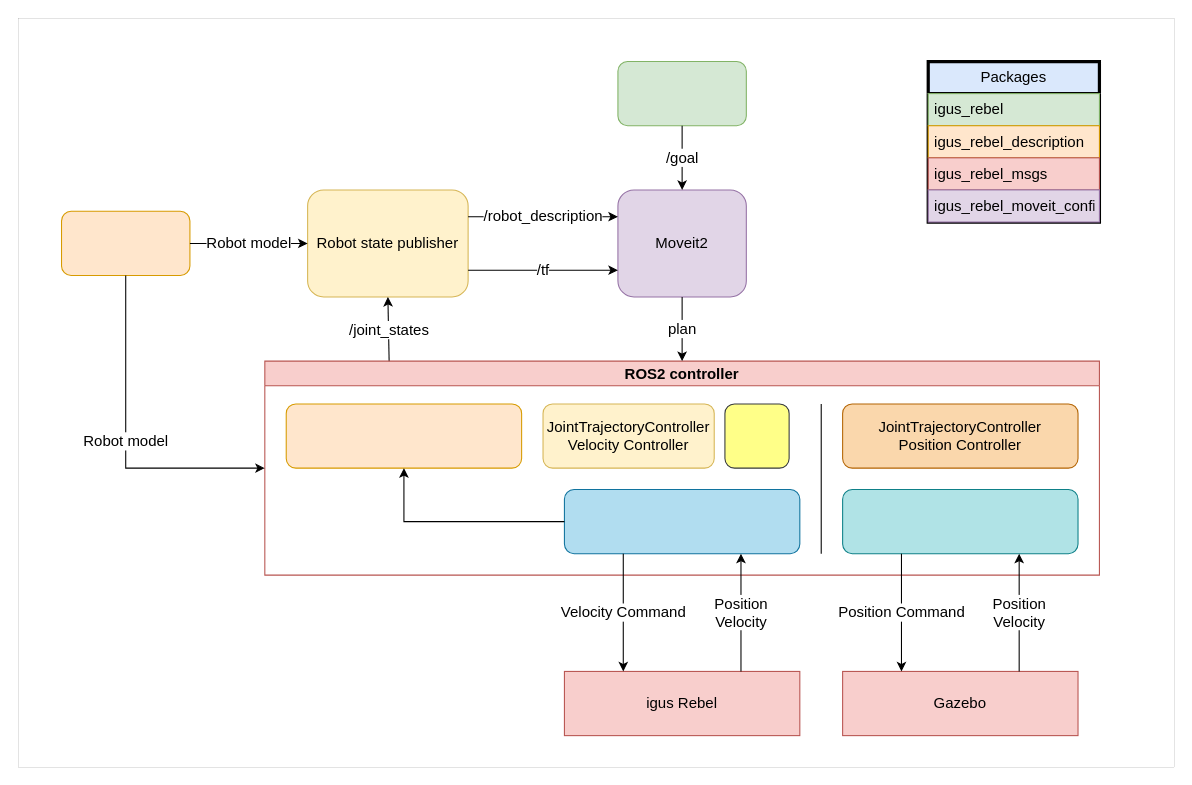
Image size: 1192x785. Some labels were removed from this diagram. The shapes that lost their labels are listed below. From the top down, each one's centre as x and y in pixels, then its label:
the point at 681,93: User application
the point at 125,243: URDF files
the point at 403,435: Joint state publisher
the point at 756,435: DIO Controller
the point at 681,521: Hardware Interface CRI protocol
the point at 960,521: Gazebo Simulation Plugins
